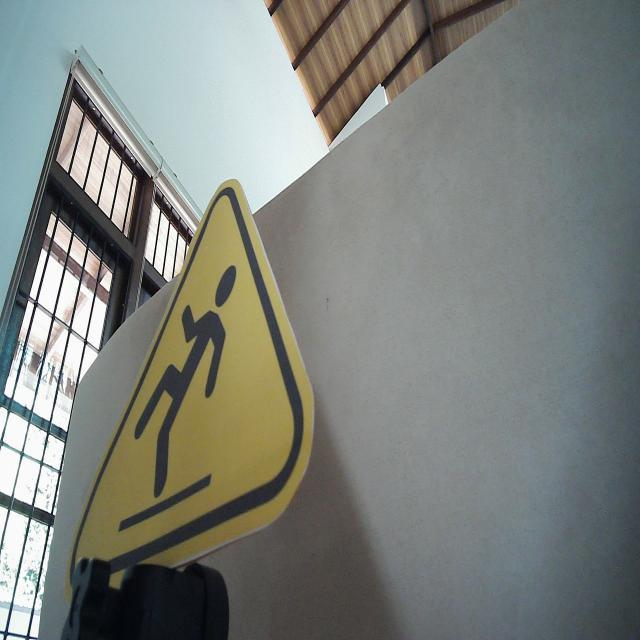slippery_sign: (61, 175, 316, 605)
